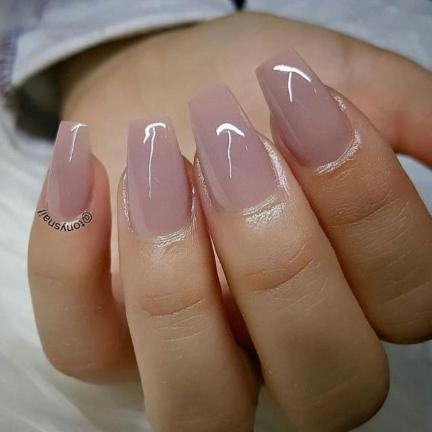Nail: (254, 45, 354, 167), (188, 85, 278, 212), (127, 119, 192, 238), (46, 122, 92, 222)
